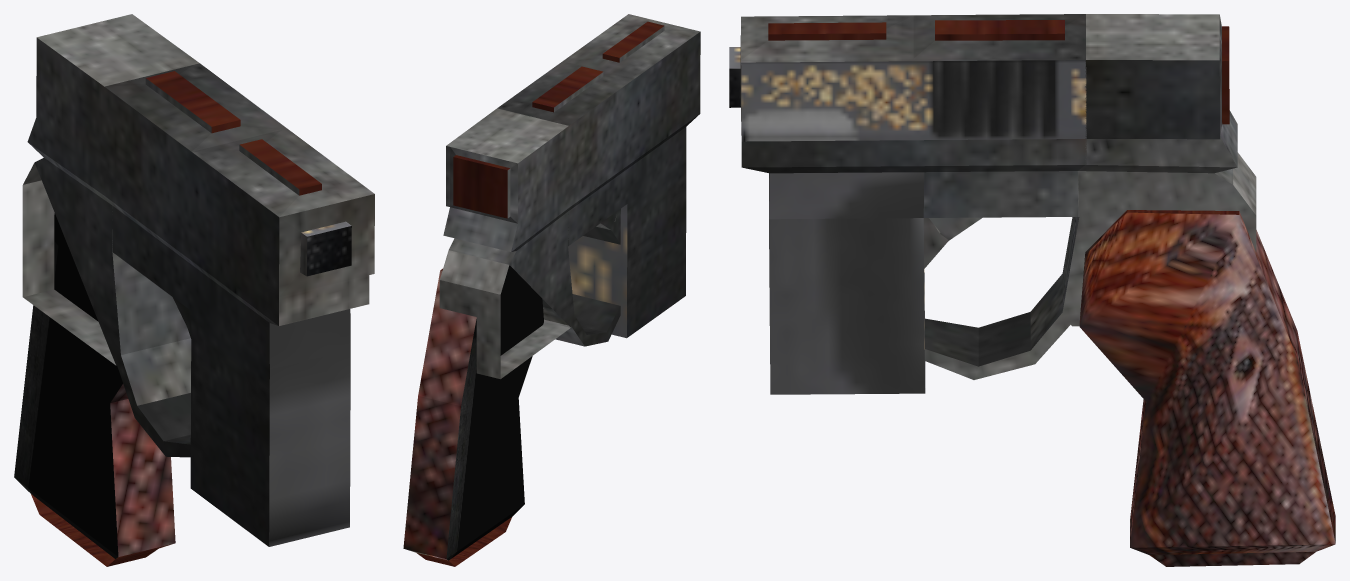
File: realhandgun.gltf
The picture shows the model from 3 angles, left to right: view 1: azimuth 30°, elevation 25°; view 2: azimuth 150°, elevation 25°; view 3: azimuth 270°, elevation 25°; orthographic projection. The views are drawn at different scales.
Visible parts, largest first — view 1: Cube; view 2: Cube; view 3: Cube.
Part boxes in pixels (x1=…): Cube: x1=14, y1=14, x2=374, y2=566; Cube: x1=403, y1=14, x2=700, y2=566; Cube: x1=729, y1=14, x2=1335, y2=566.
Size of the model in its own units: 1.18 by 6.26 by 6.59.
1 material, 1 textured.
